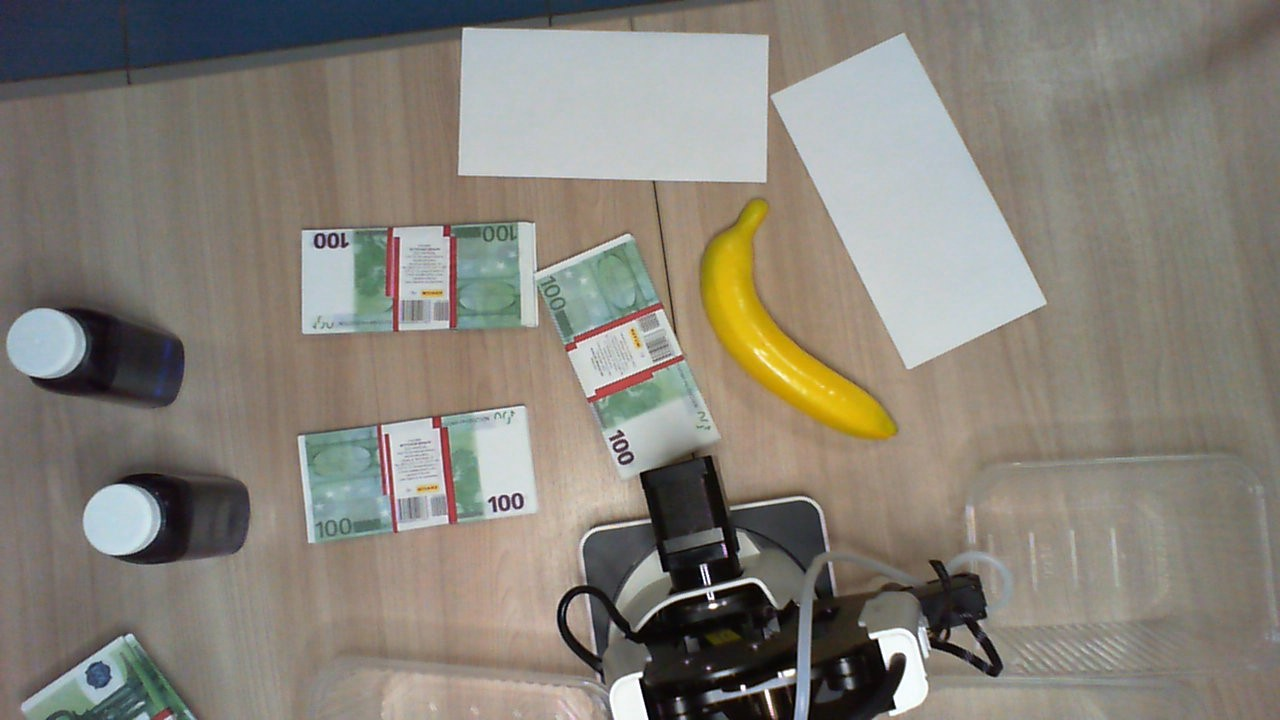banana: (689, 201, 896, 440)
bottle: (78, 475, 196, 570), (5, 304, 112, 397)
convert: (771, 28, 1046, 366), (458, 23, 771, 185)
money: (531, 231, 723, 477), (292, 403, 540, 542), (300, 215, 538, 335), (19, 632, 202, 717)
